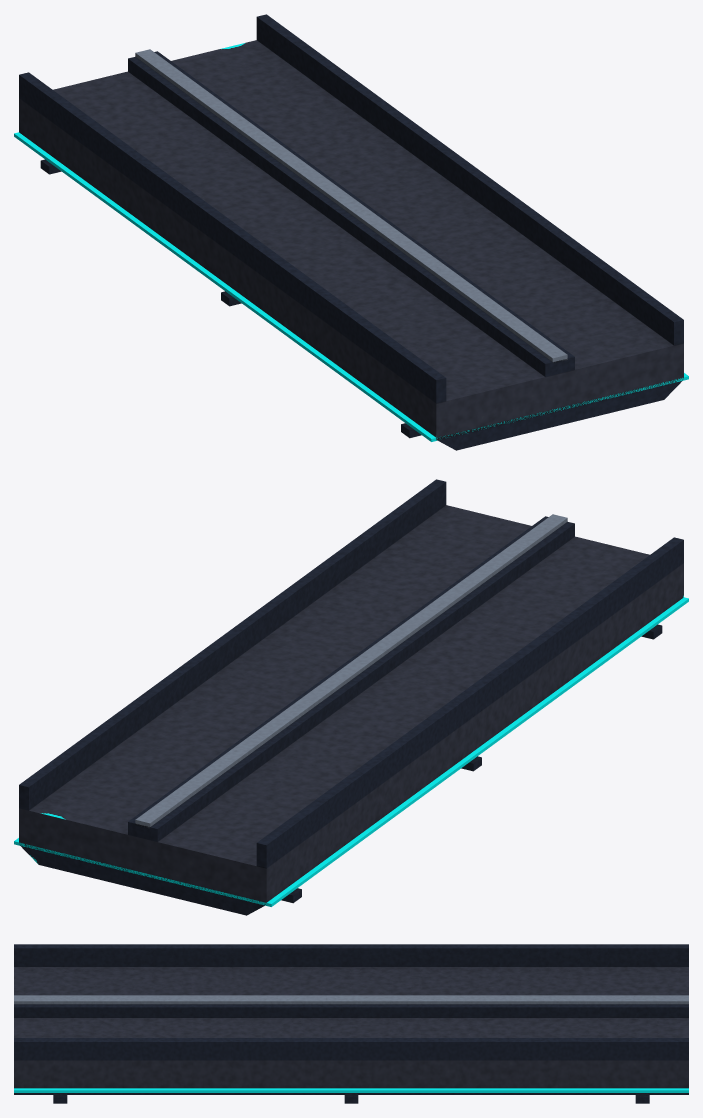
The model's file is viaduct_segment.fbx.
3 renders of one model, top to bottom at view 1: azimuth 30°, elevation 25°; view 2: azimuth 150°, elevation 25°; view 3: azimuth 270°, elevation 25°, orthographic. The views are drawn at different scales.
Visible parts, largest first — view 1: viaduct_segment, viaduct_segment_glow; view 2: viaduct_segment, viaduct_segment_glow; view 3: viaduct_segment, viaduct_segment_glow.
Boxes of the visible parts, x1=… form: viaduct_segment: x1=19, y1=14, x2=683, y2=450; viaduct_segment_glow: x1=14, y1=132, x2=688, y2=441; viaduct_segment: x1=19, y1=479, x2=683, y2=915; viaduct_segment_glow: x1=14, y1=597, x2=688, y2=906; viaduct_segment: x1=14, y1=944, x2=688, y2=1103; viaduct_segment_glow: x1=14, y1=1088, x2=688, y2=1092.
Size of the model in its own units: 1040 by 290 by 2920.
1 material, 1 textured.
